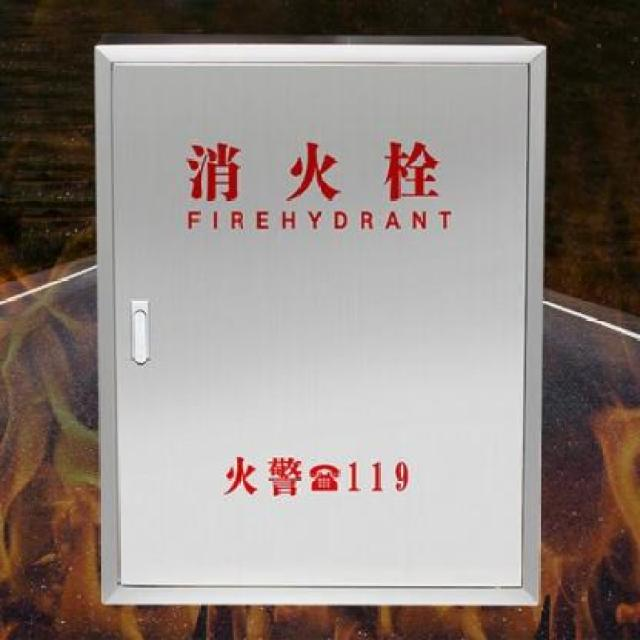firehydrant: (91, 37, 552, 612)
